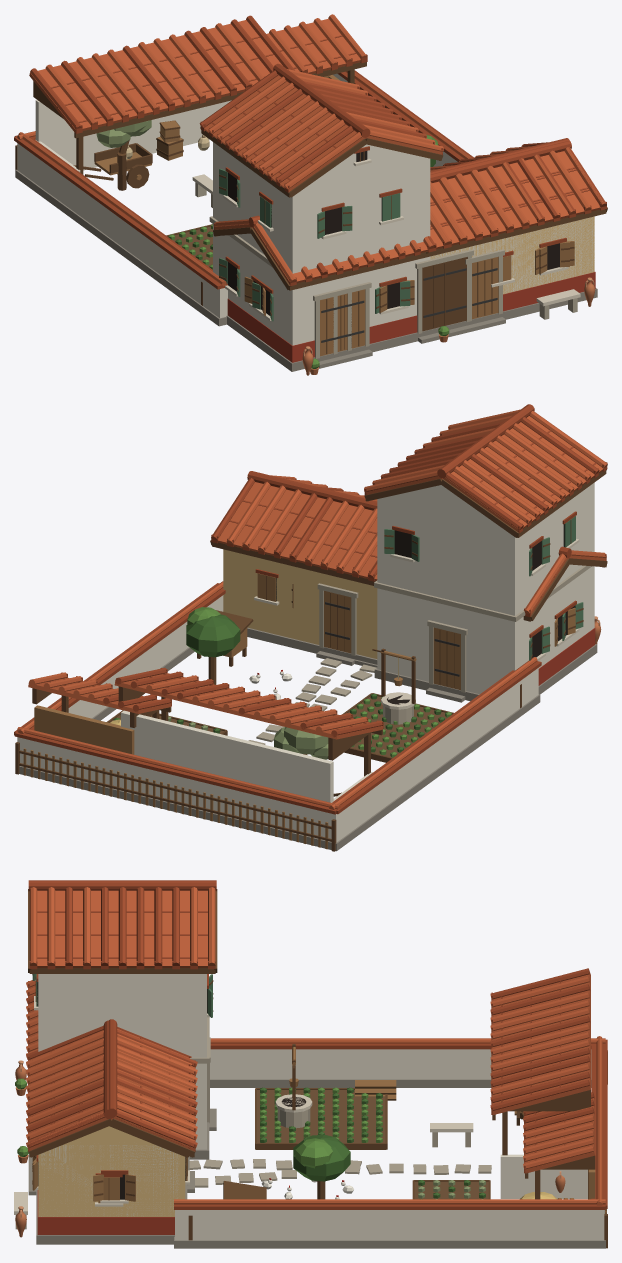
Rendered from Hofhaus.fbx.
The picture shows the model from 3 angles, top to bottom: view 1: azimuth 30°, elevation 25°; view 2: azimuth 150°, elevation 25°; view 3: azimuth 270°, elevation 25°; orthographic projection. The views are drawn at different scales.
Visible parts, largest first — view 1: Hofhaus_0, Hofhaus_1; view 2: Hofhaus_0, Hofhaus_1; view 3: Hofhaus_0, Hofhaus_1.
Boxes of the visible parts, bbox=[...] form: Hofhaus_0: bbox=[15, 14, 607, 375]; Hofhaus_1: bbox=[14, 15, 607, 374]; Hofhaus_0: bbox=[15, 404, 607, 851]; Hofhaus_1: bbox=[14, 471, 607, 851]; Hofhaus_0: bbox=[14, 880, 607, 1248]; Hofhaus_1: bbox=[15, 968, 607, 1248].
Size of the model in its own units: 3.65 by 2.56 by 5.46.
